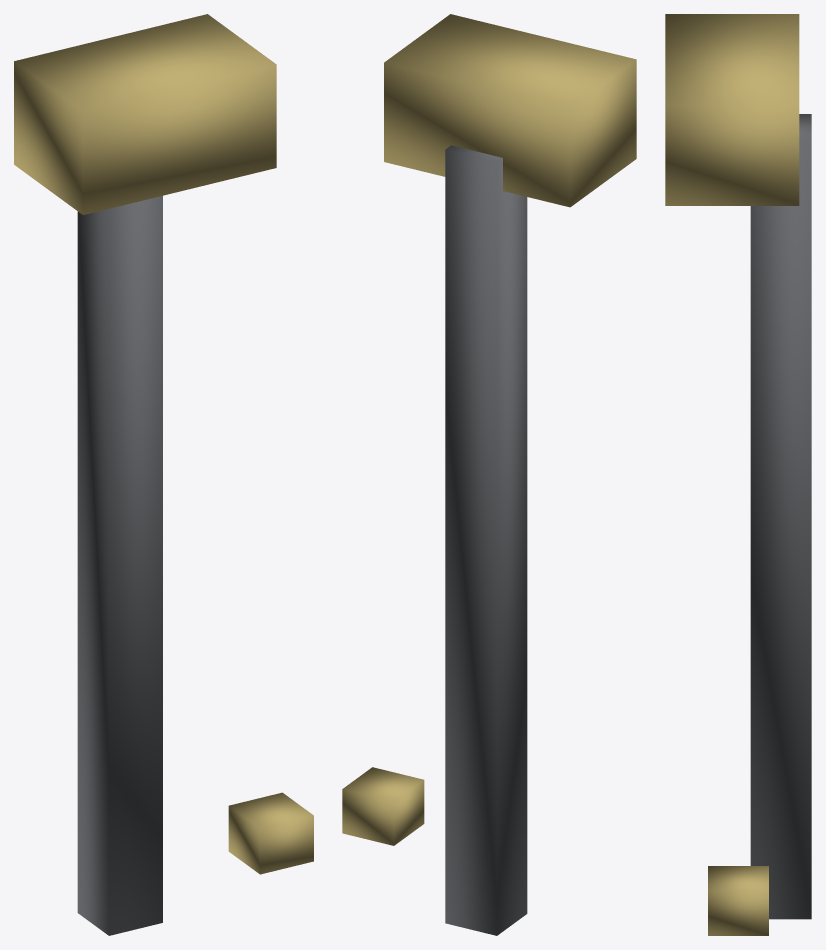
Rendered from dock_light_14.glb.
3 renders of one model, left to right at view 1: azimuth 30°, elevation 25°; view 2: azimuth 150°, elevation 25°; view 3: azimuth 270°, elevation 25°, orthographic. The views are drawn at different scales.
Visible parts, largest first — view 1: world; view 2: world; view 3: world.
Boxes of the visible parts, bbox=[...] form: world: bbox=[14, 14, 313, 935]; world: bbox=[342, 14, 636, 935]; world: bbox=[665, 14, 811, 935].
Size of the model in its own units: 0.4512 by 1.49 by 0.2328.
